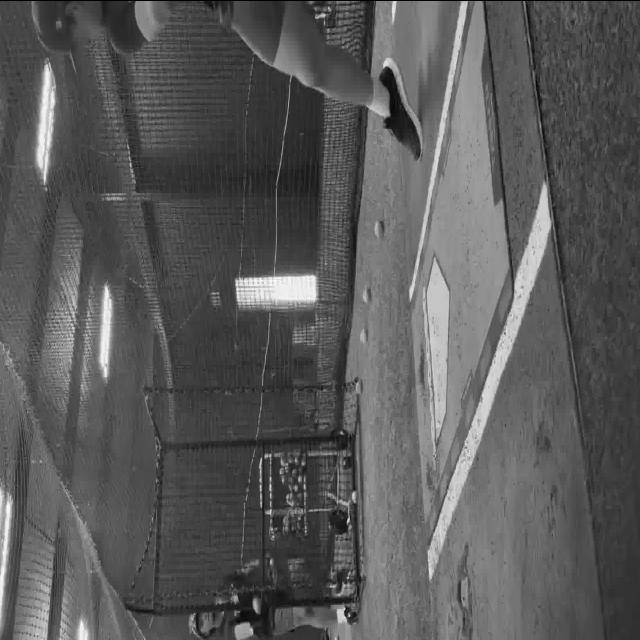baseball: (374, 220, 384, 239), (252, 596, 262, 614), (362, 286, 370, 304), (360, 328, 368, 344), (354, 380, 362, 394), (352, 490, 358, 503)
shoe: (378, 56, 423, 162), (344, 600, 359, 626)
